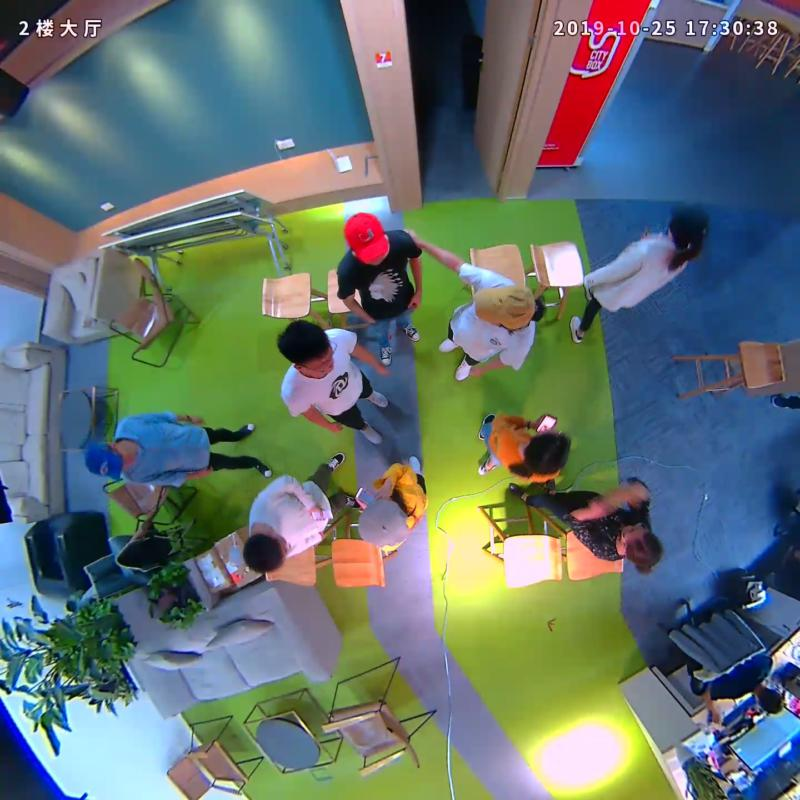head: (277, 319, 336, 374), (474, 285, 537, 331), (343, 212, 390, 266), (357, 497, 408, 546), (82, 438, 135, 484), (617, 523, 664, 570), (521, 431, 572, 474), (242, 532, 288, 573), (668, 204, 709, 249)
